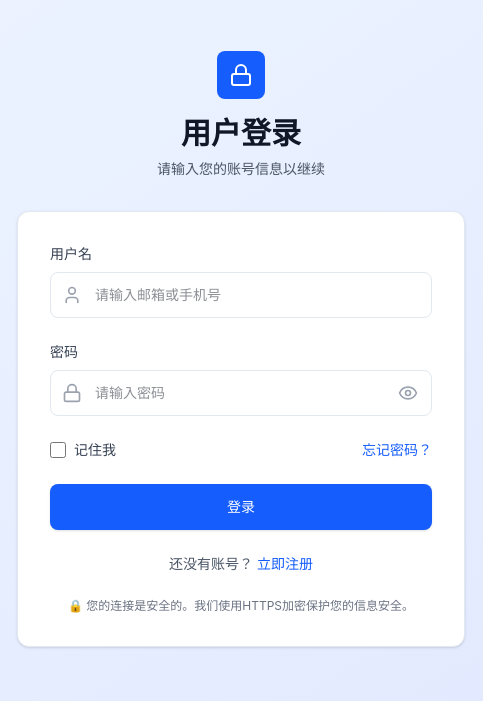
Test: LoginPage › 登录功能 › 应该成功登录并重定向
Type "test@example.com" into the field labelled "用户名" at [241, 295], box [50, 272, 432, 318]
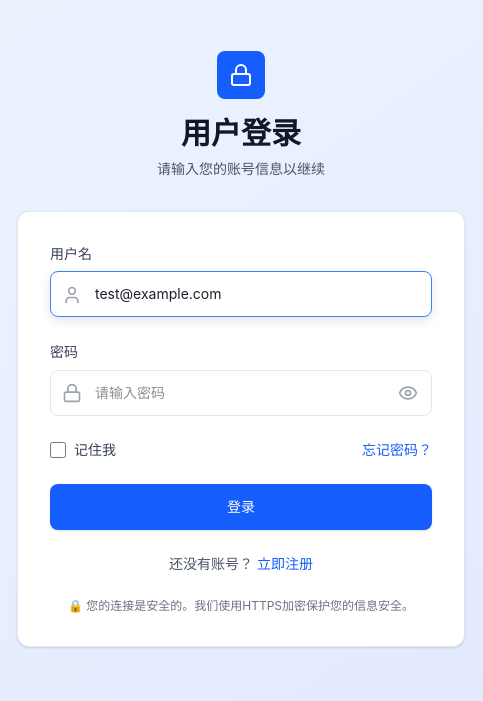
Type "Test123" into the password field labelled "密码" at [241, 393], box [50, 370, 432, 416]
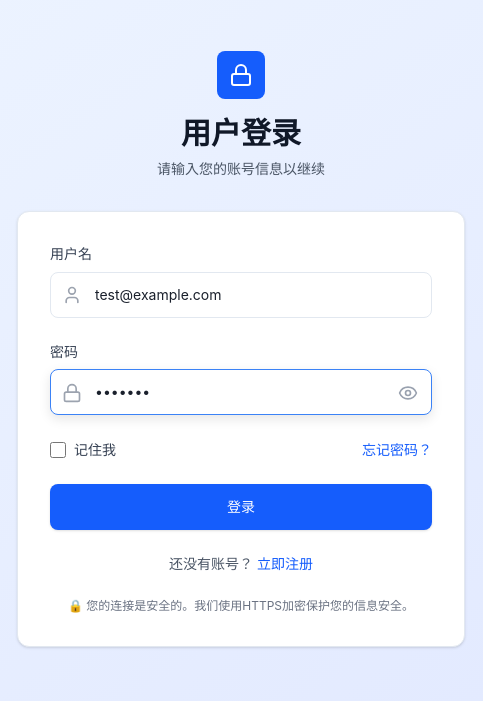
Click the button "登录" at [241, 507], box [50, 484, 432, 530]
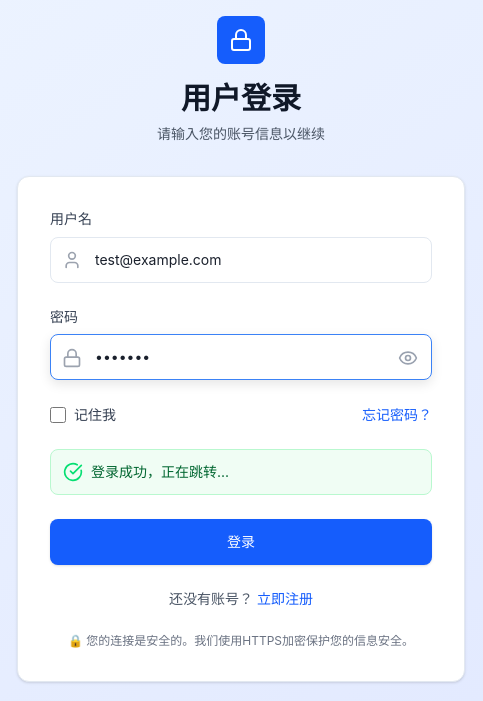
Expected: the text "登录成功，正在跳转..." is shown, [91, 462, 229, 482]
